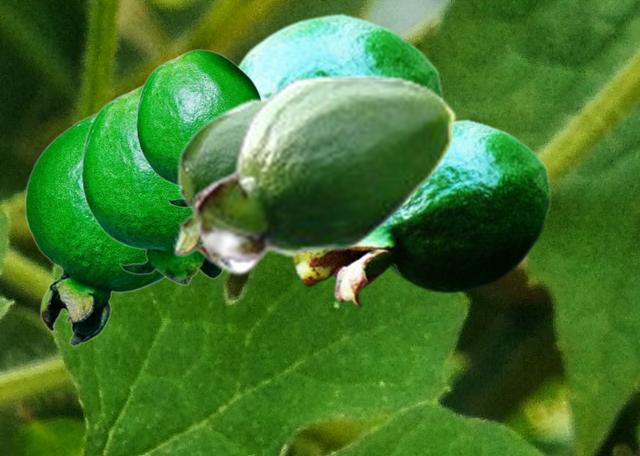guava: (192, 72, 456, 275), (288, 118, 551, 307), (24, 110, 164, 345), (80, 84, 222, 284), (135, 49, 261, 208), (238, 12, 444, 97), (173, 97, 264, 263)
